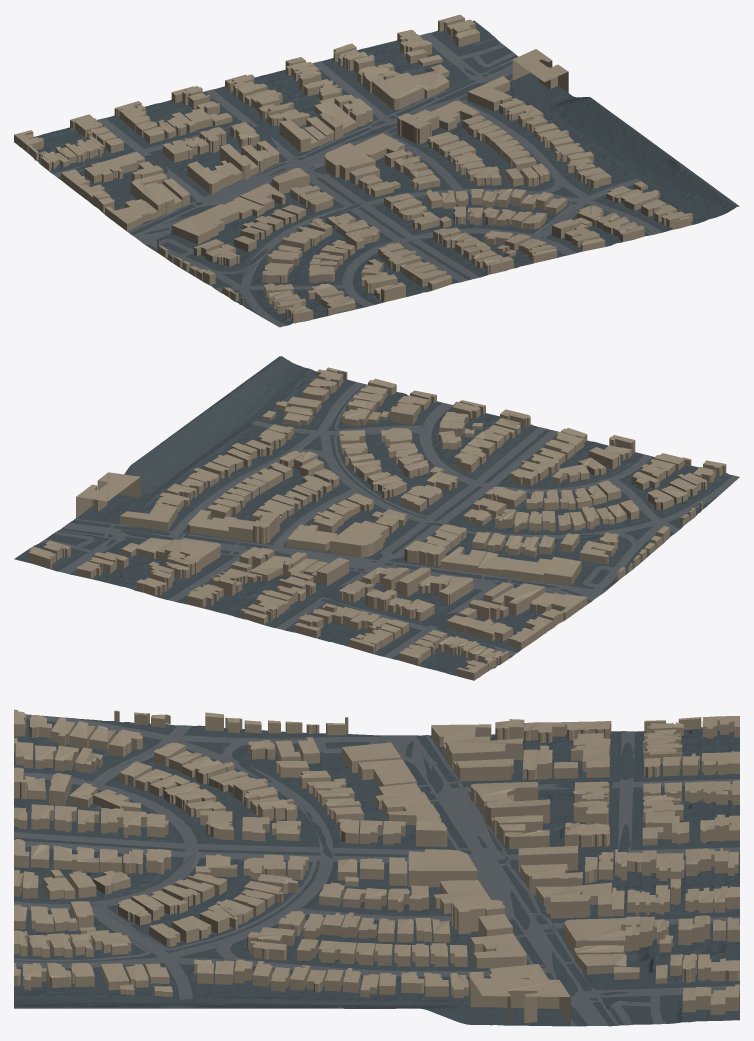
Rendered from epsg26910-1426-10873.lod0.glb.
The picture shows the model from 3 angles, top to bottom: view 1: azimuth 30°, elevation 25°; view 2: azimuth 150°, elevation 25°; view 3: azimuth 270°, elevation 25°; orthographic projection. The views are drawn at different scales.
Visible parts, largest first — view 1: epsg26910-1426-10873-lod0; view 2: epsg26910-1426-10873-lod0; view 3: epsg26910-1426-10873-lod0.
Part boxes in pixels (x1,y1,x2,y2): epsg26910-1426-10873-lod0: (14, 14, 739, 327); epsg26910-1426-10873-lod0: (14, 356, 739, 680); epsg26910-1426-10873-lod0: (14, 709, 739, 1026).
Size of the model in its own units: 384 by 27.29 by 384.
